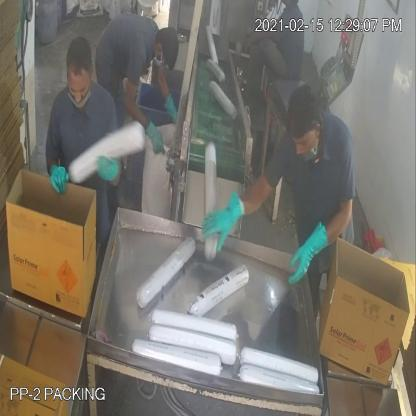glove: (285, 211, 331, 297), (198, 186, 250, 254), (44, 153, 78, 201), (144, 115, 173, 166), (91, 145, 125, 188), (162, 90, 183, 126)
no_glove: (123, 78, 151, 124), (239, 22, 277, 53)
